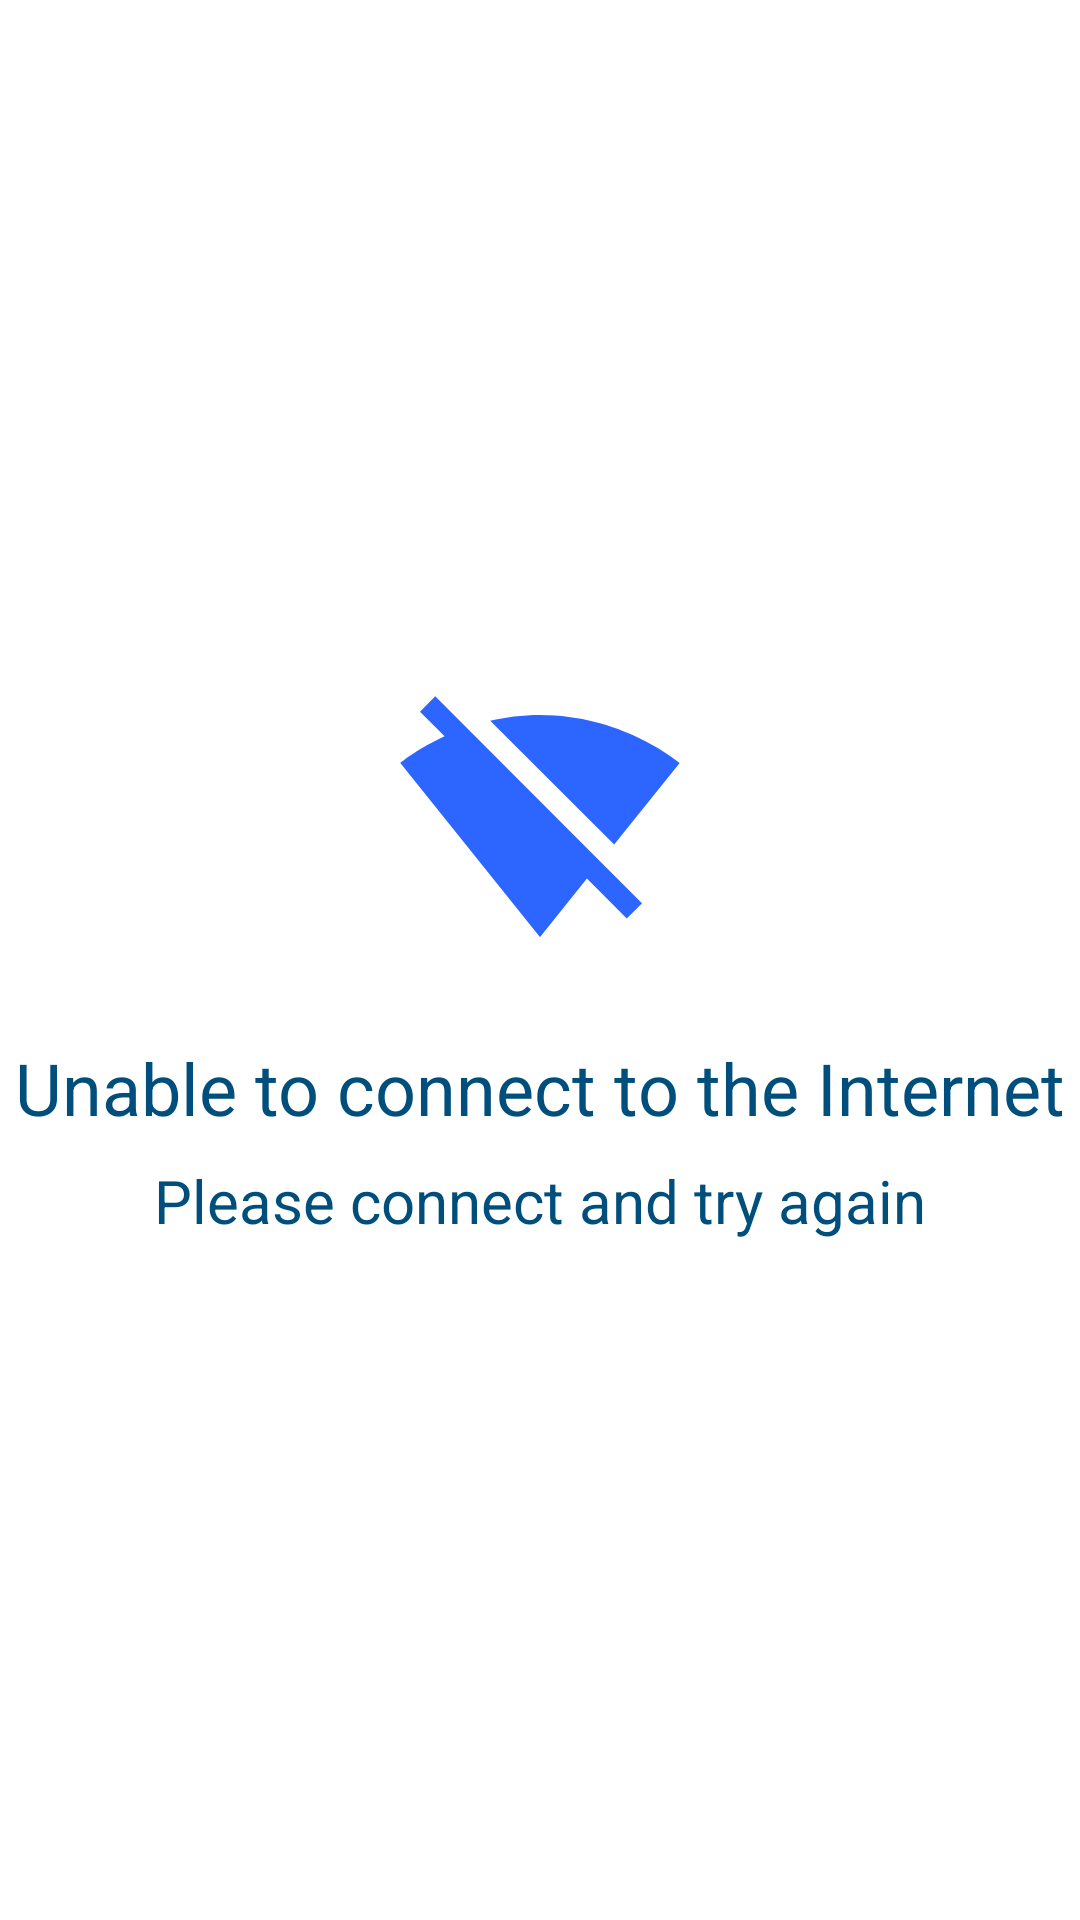

Icon click points for this 1080 x 1920 phone screenshot, format (x=x, y=y):
disconnected: (x=540, y=816)
